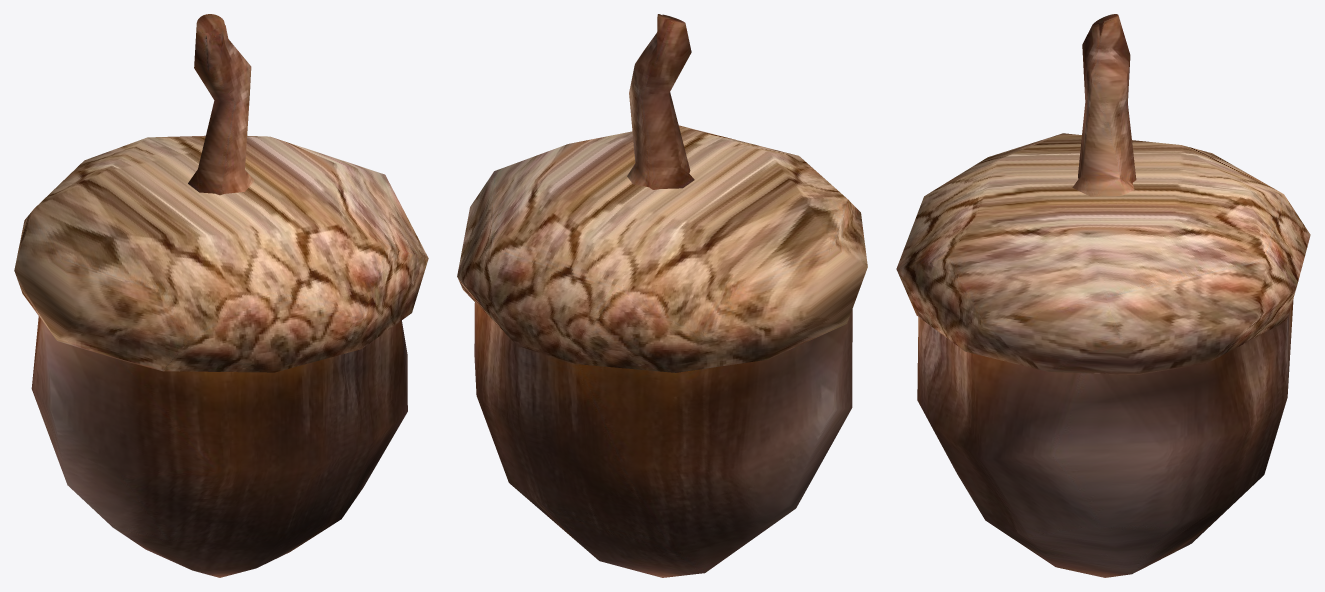
Rendered from AcornNut_01.fbx.
The picture shows the model from 3 angles, left to right: view 1: azimuth 30°, elevation 25°; view 2: azimuth 150°, elevation 25°; view 3: azimuth 270°, elevation 25°; orthographic projection.
Visible parts, largest first — view 1: AcornMesh_01; view 2: AcornMesh_01; view 3: AcornMesh_01.
Boxes of the visible parts, x1,y1,x2,y2 form: AcornMesh_01: [14, 14, 428, 577]; AcornMesh_01: [457, 14, 867, 577]; AcornMesh_01: [896, 14, 1310, 577].
Size of the model in its own units: 6.1 by 9.12 by 6.13.
